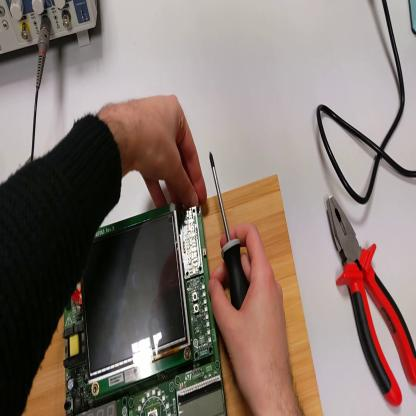hand: (208, 220, 294, 403), (115, 95, 210, 210)
low voltage board: (58, 208, 226, 412)
oscilloscope: (2, 3, 100, 57), (410, 1, 416, 36)
pliers: (328, 191, 416, 405)
screwdriver-: (208, 150, 251, 312)
working area: (25, 176, 323, 416)
